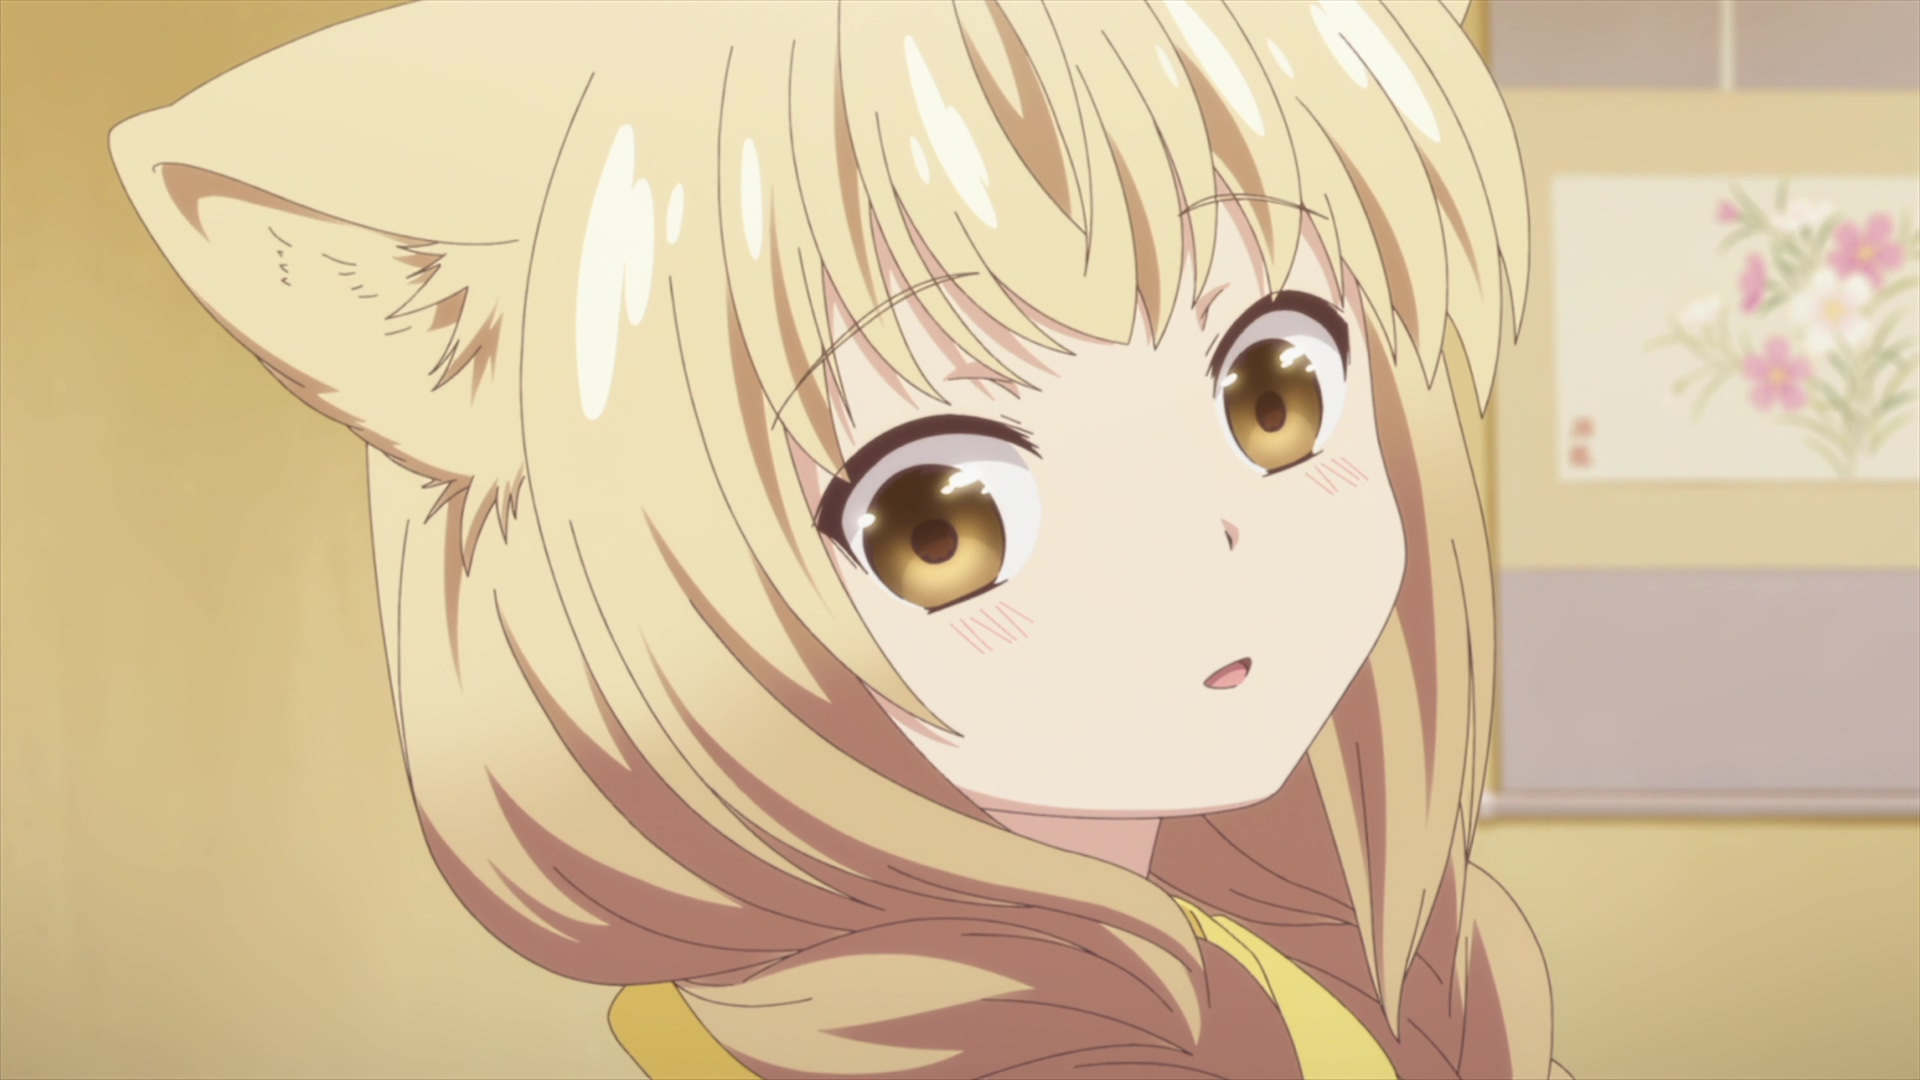柚: (105, 1, 1581, 1080)
